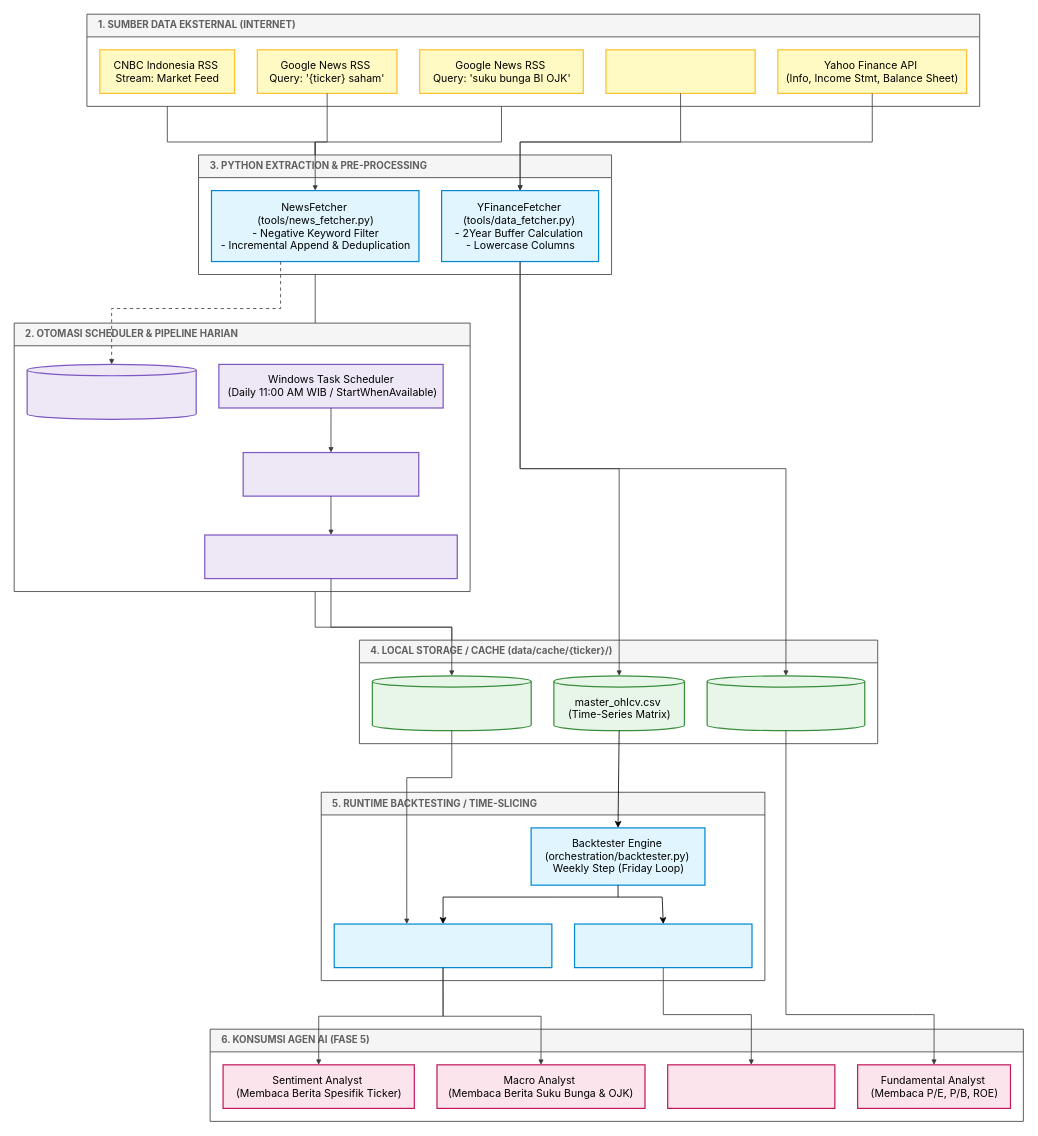
This 1038x1136 diagram has some shape labels left out. Here are the shapes that lost their labels. From the top down, the centre of each, then its label:
At (x=680, y=71): "Yahoo Finance API (OHLCV Daily Historical)".
At (x=111, y=391): "scripts/collector_log.txt (Audit Trail & Metric Counter)".
At (x=330, y=474): "run_collector.vbs (Silent Headless Background)".
At (x=330, y=556): "daily_news_collector.py (Iterasi 5 Bank: BBRI, BBCA, BMRI, BBNI, BRIS)".
At (x=451, y=703): "master_news.json (Cleaned Articles Archive)".
At (x=785, y=703): "master_fundamentals.json (Valuation & Statements)".
At (x=442, y=945): "Time-Slicing News (Date - 7 <= t <= Date) Zero Look-Ahead Bias".
At (x=663, y=945): "Time-Slicing OHLCV (t <= Date) Compute Technical Indicators".
At (x=751, y=1086): "Technical Analyst (Membaca RSI, MACD, SMA)".
